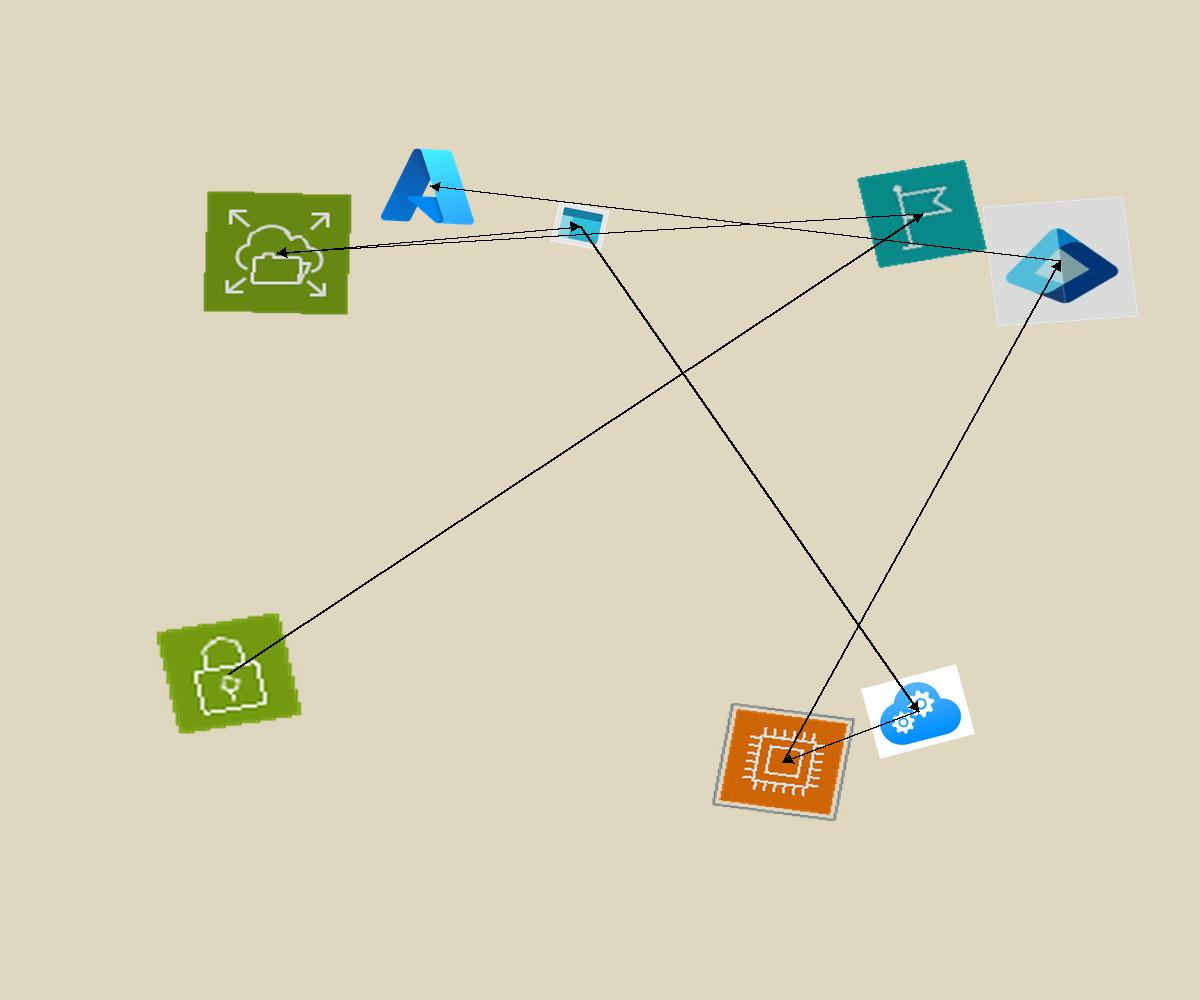AWS-Category_Compute: (711, 702, 856, 822)
AWS-EFS: (202, 190, 353, 316)
AWS-Public-subnet: (154, 611, 304, 736)
AWS-Region: (856, 159, 988, 269)
Azure_cloud_services: (861, 664, 975, 759)
Azure_management-portal: (550, 201, 610, 251)
Azure_microsoft_entra: (982, 196, 1139, 327)
Azure_services: (376, 141, 484, 231)
